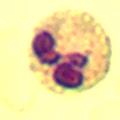neutrophil: (27, 7, 111, 93)
